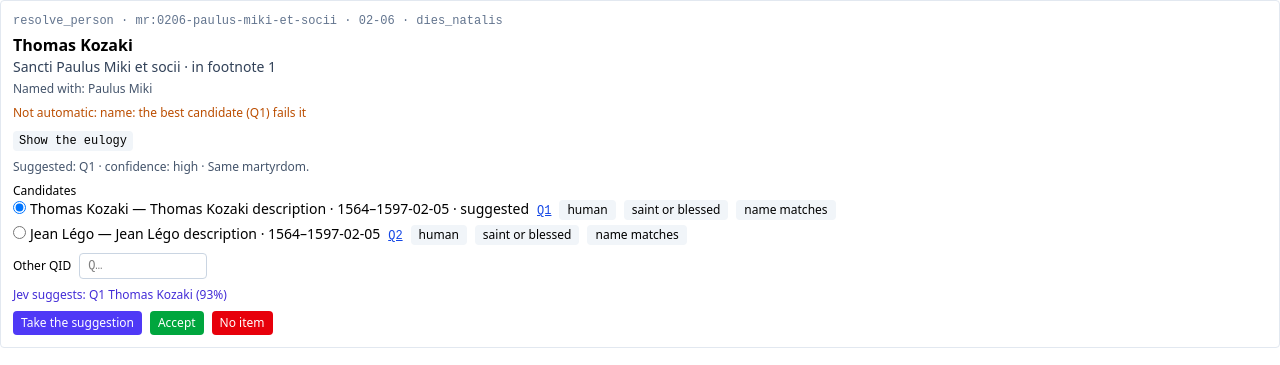
Test case: PersonCard, from the review of #113 › sources and Jev › taking Jev's accept resets a typed QID and the selection
The width and height of the screenshot is (1280, 365).
Click the radio button labelled "Jean Légo — Jean Légo description · 1564–1597-02-05" at x=20, y=232, box [13,226,26,239]
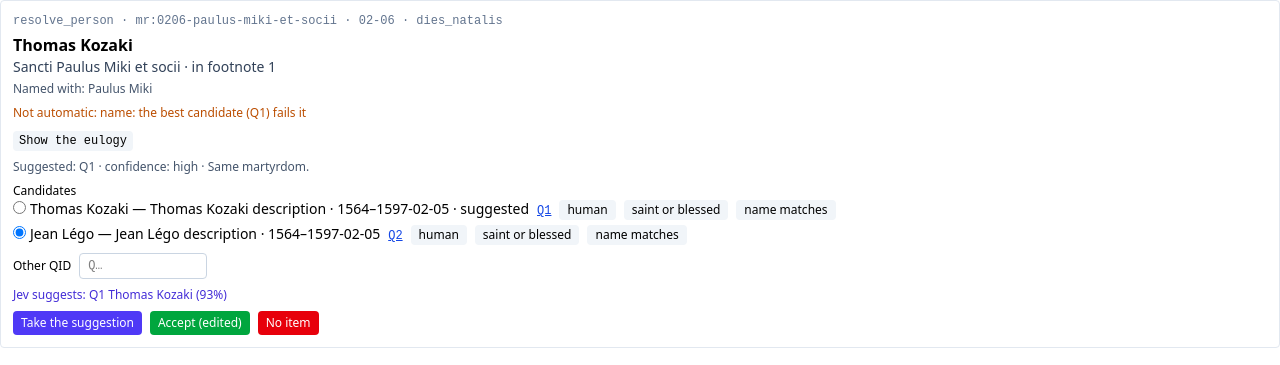
Type "Q99" into the field labelled "Other QID" at x=143, y=266, box [79,253,207,279]
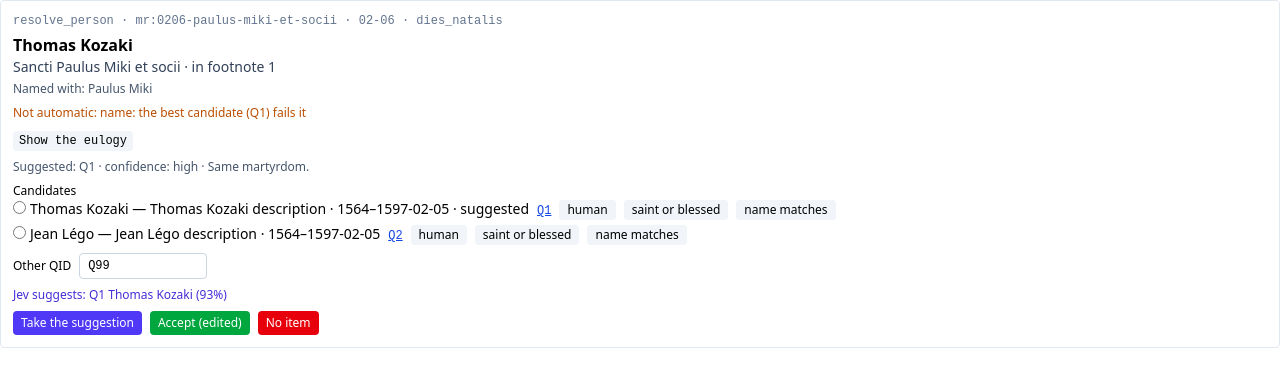
Click the button "Take the suggestion" at x=77, y=323, box [13,311,142,335]
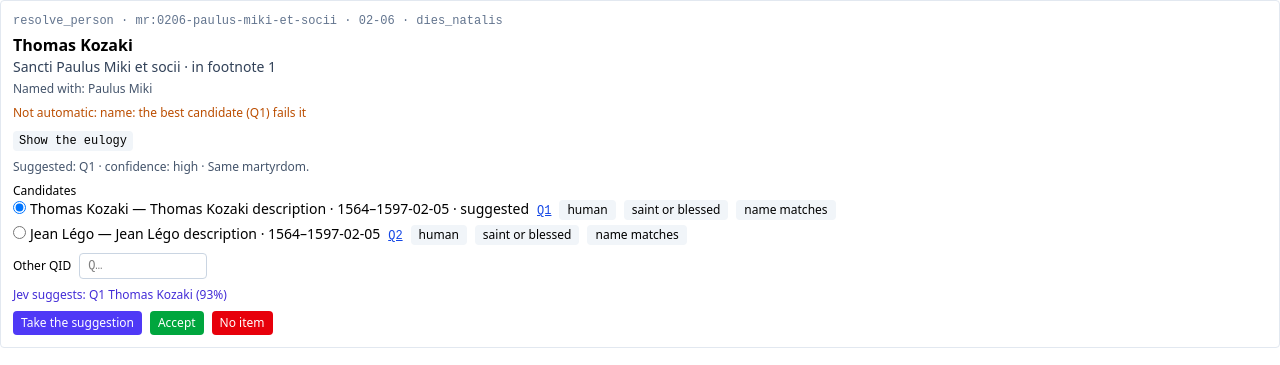
Expected: the field labelled "Other QID" is empty, [79,253,207,279]
Expected: the radio button labelled "Thomas Kozaki" is checked, [13,201,26,214]
